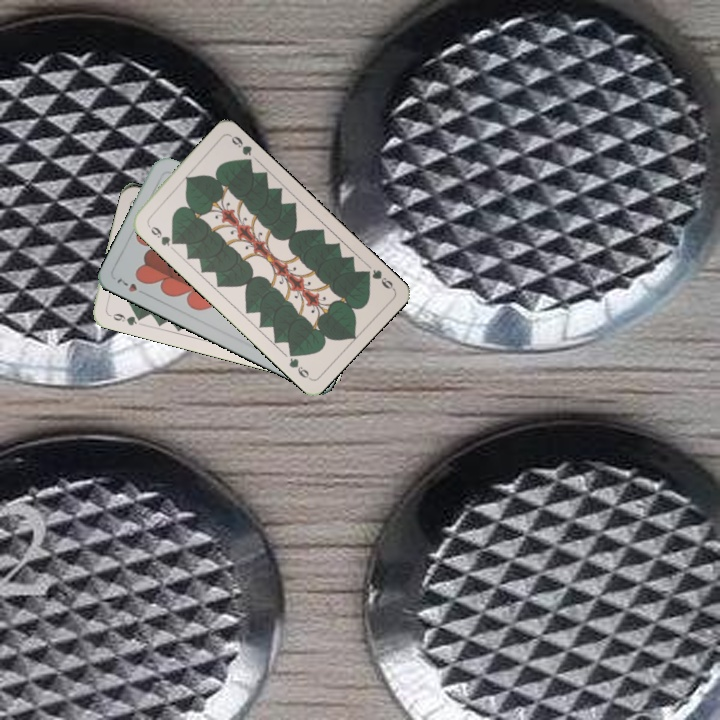G9: (143, 220, 179, 249), (359, 265, 397, 292), (104, 309, 145, 328)
H7: (113, 273, 150, 298)
